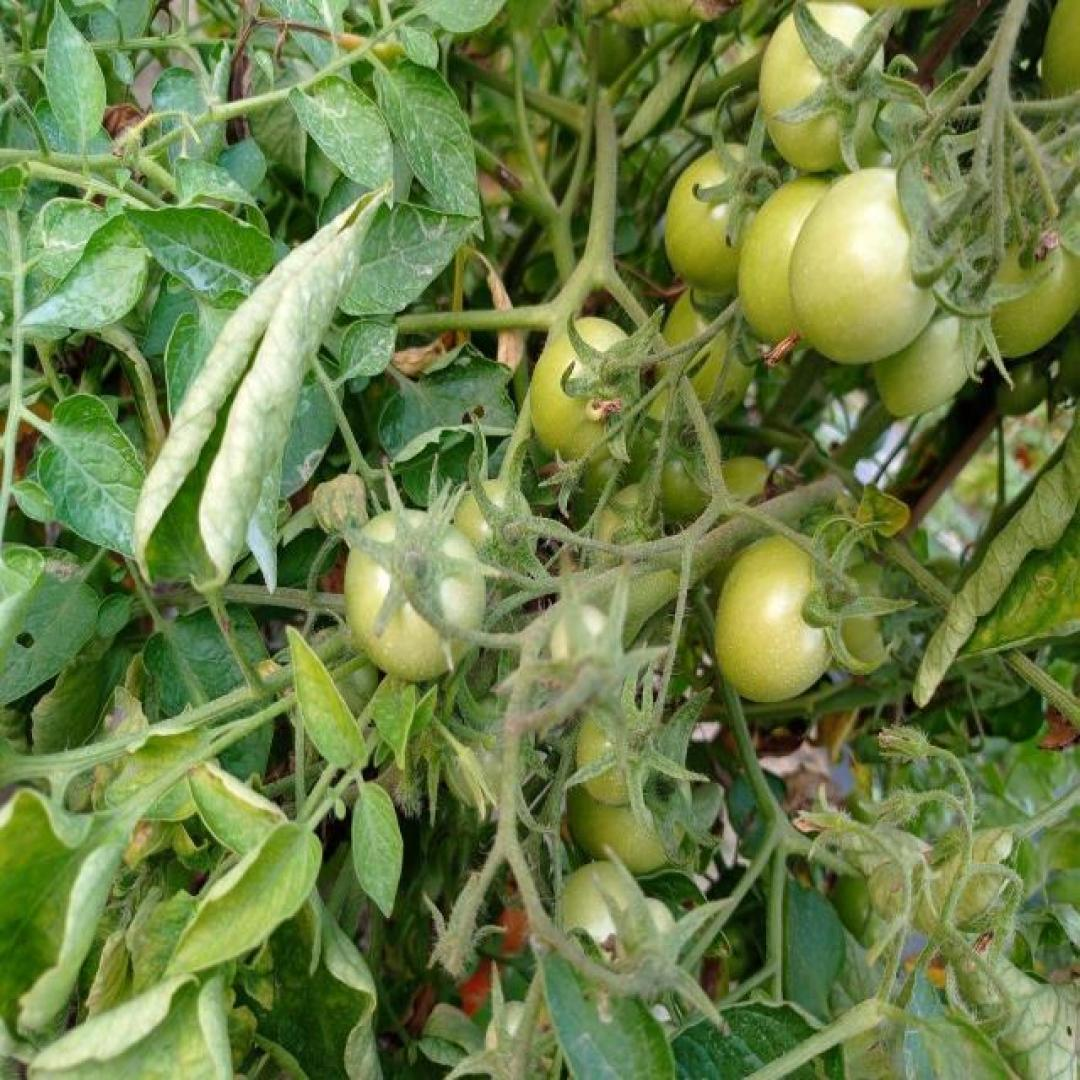mentah: (788, 167, 947, 366), (343, 508, 486, 682), (756, 0, 884, 170), (714, 537, 835, 707), (525, 314, 643, 467)
